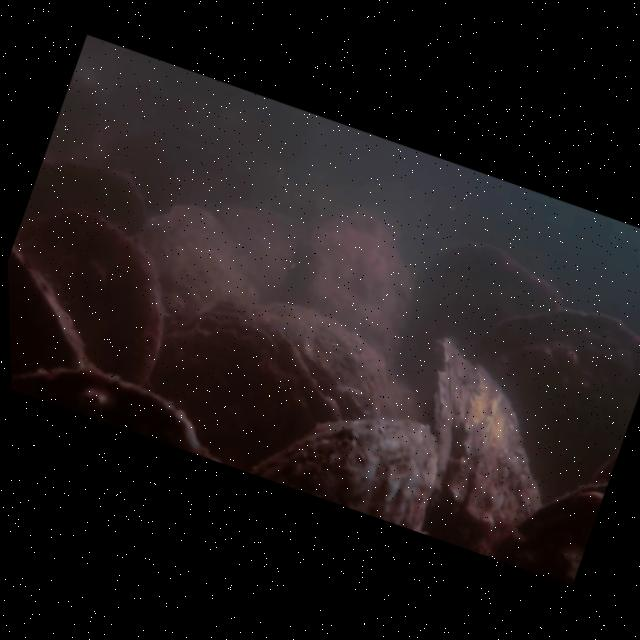Oyster-Closed: (431, 331, 544, 533), (516, 482, 605, 550)
Oyster-Indeterminate: (464, 303, 640, 489), (17, 205, 169, 385), (162, 322, 344, 461), (11, 358, 236, 465), (397, 244, 564, 385), (246, 418, 440, 530), (296, 208, 413, 366), (234, 300, 393, 415), (141, 202, 263, 323), (8, 243, 88, 371), (28, 155, 149, 233), (215, 201, 303, 296)
